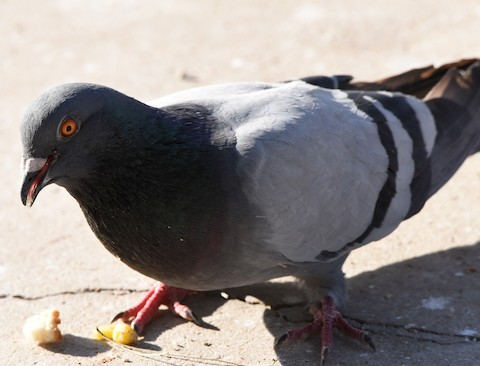pigeon: (13, 49, 480, 365)
